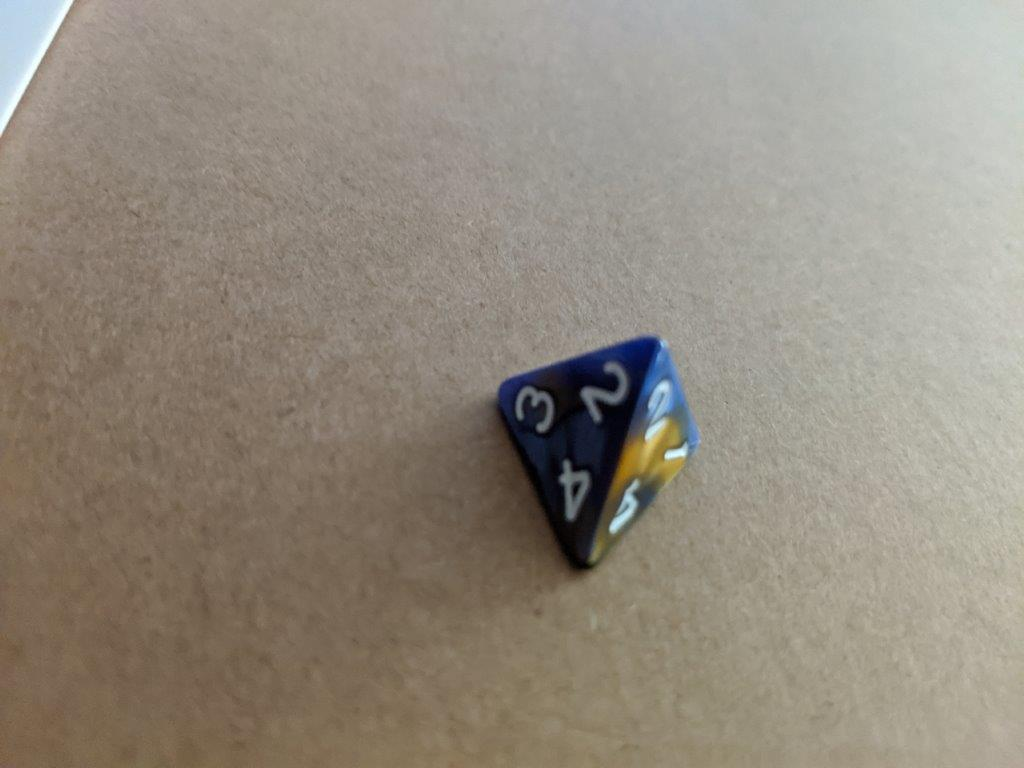d4-2: (497, 332, 703, 577)
